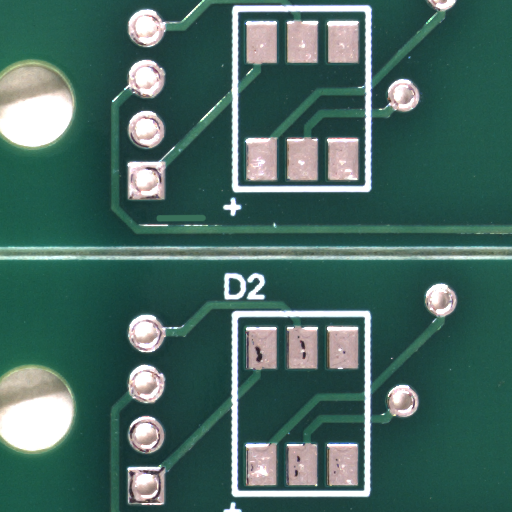Spurious_copper: (178, 218, 230, 231)
